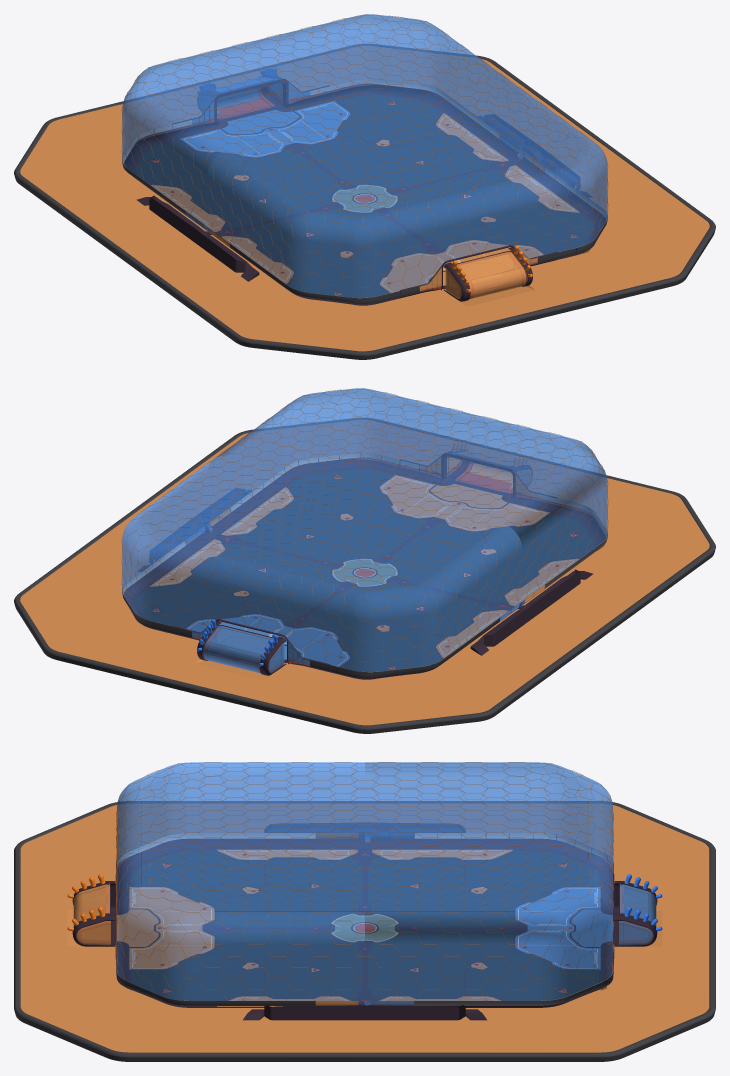
The model's file is rlviser_stadium.obj.
3 renders of one model, top to bottom at view 1: azimuth 30°, elevation 25°; view 2: azimuth 150°, elevation 25°; view 3: azimuth 270°, elevation 25°, orthographic. The views are drawn at different scales.
Bounding box in the file's own units: 12448 × 2234 × 14496.
